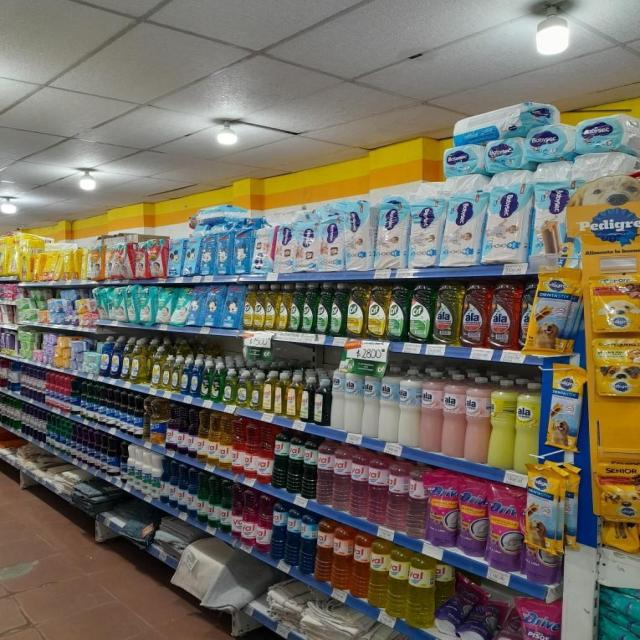ala_conc_amarillo: (434, 283, 461, 345)
ala_conc_rojo: (489, 280, 521, 350), (462, 281, 488, 348)
ala_crem_blanco: (398, 371, 419, 447), (378, 371, 398, 442), (344, 372, 362, 433), (362, 374, 378, 437)
ala_crem_rosado: (442, 373, 465, 458), (420, 372, 442, 452)
cif_conc_bot_amarilla: (367, 284, 387, 340), (347, 284, 366, 338), (277, 283, 289, 331), (254, 284, 266, 330), (244, 284, 255, 330), (266, 284, 276, 330)
cif_conc_botella_verde: (409, 283, 433, 344), (388, 283, 408, 342), (331, 283, 346, 336), (316, 282, 330, 335), (302, 282, 315, 334), (289, 283, 302, 332)
cif_conc_sachet_verde: (599, 586, 639, 640)
magistral_con_amarillo: (132, 338, 148, 384), (150, 343, 162, 389), (237, 370, 251, 407), (224, 367, 236, 405), (251, 371, 262, 410), (171, 355, 180, 392), (162, 350, 170, 390)
magistral_con_azul: (190, 358, 200, 397), (180, 356, 190, 394)
